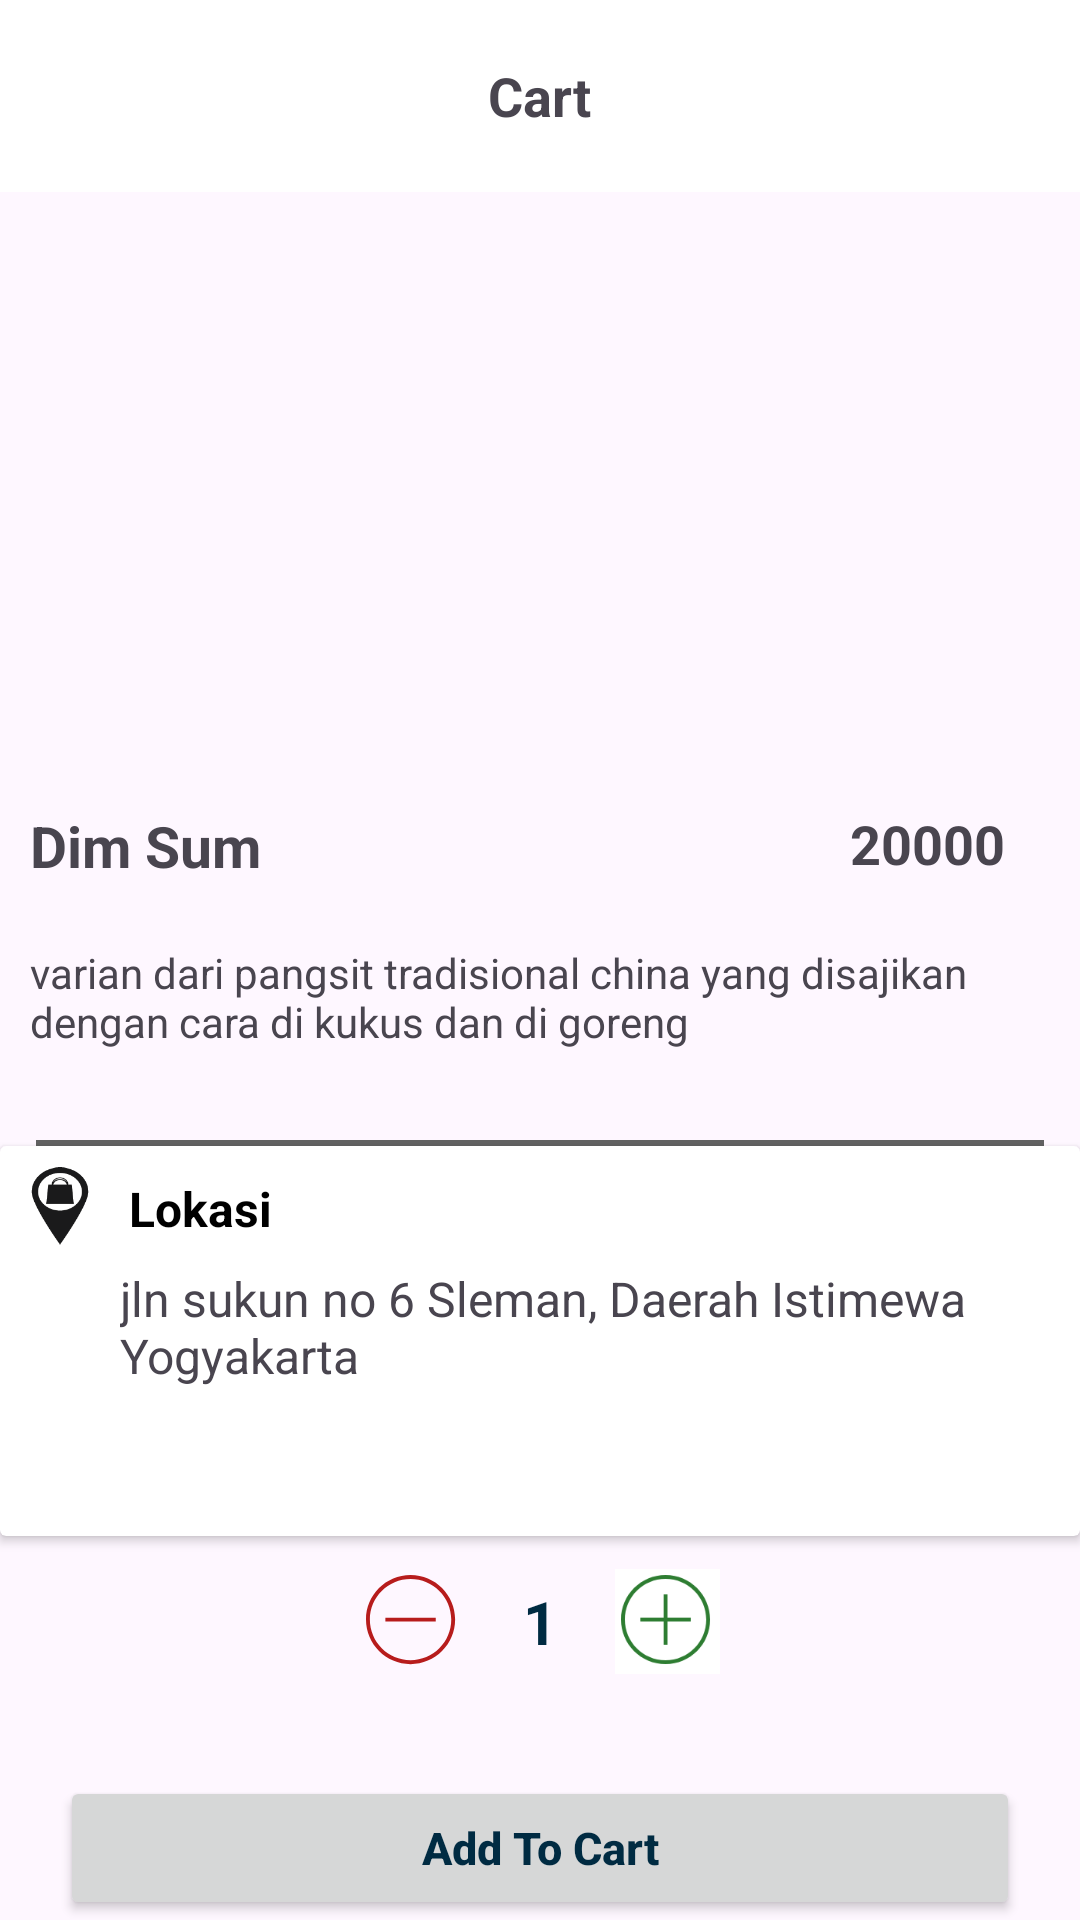

Point at icon controls on the screen. Image size 1080 × 1920, points as (x,y).
decrement: (410,1620)
increment: (665,1619)
